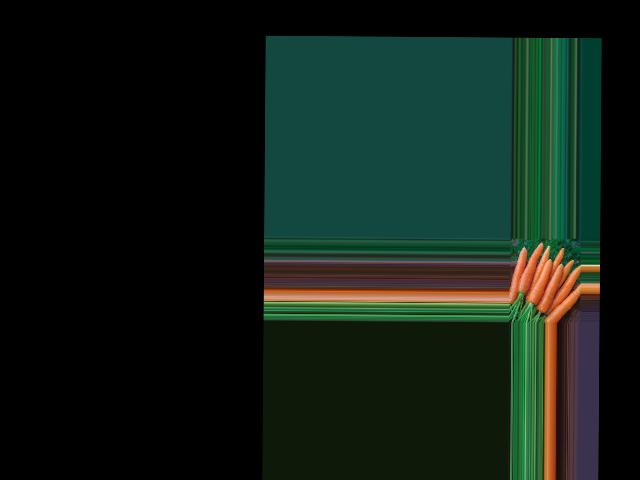carrot: (541, 276, 581, 322)
